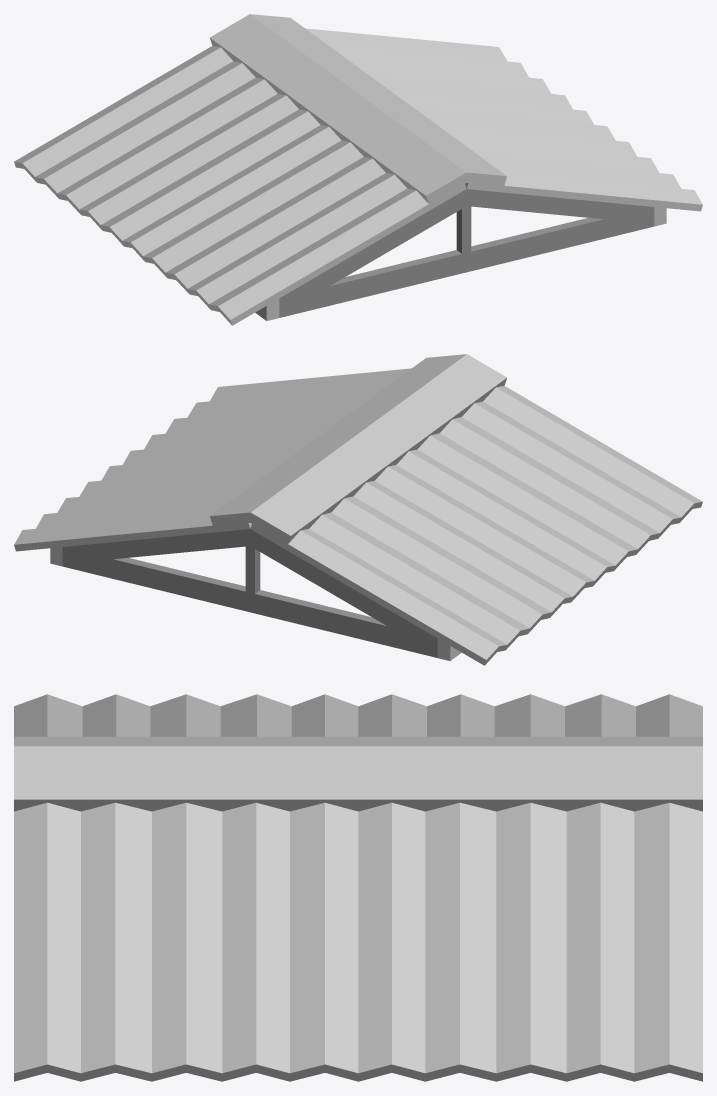
File: Wh_Roof_6m.fbx
3 views of the same model, one above another, from view 1: azimuth 30°, elevation 25°; view 2: azimuth 150°, elevation 25°; view 3: azimuth 270°, elevation 25° (orthographic). The views are drawn at different scales.
Visible parts, largest first — view 1: Cube.357; view 2: Cube.357; view 3: Cube.357.
Boxes of the visible parts, left/top/right/bottom form: Cube.357: left=14, top=14, right=702, bottom=325; Cube.357: left=14, top=354, right=702, bottom=665; Cube.357: left=14, top=694, right=702, bottom=1081.
Bounding box in the file's own units: 763 × 153 × 600.
